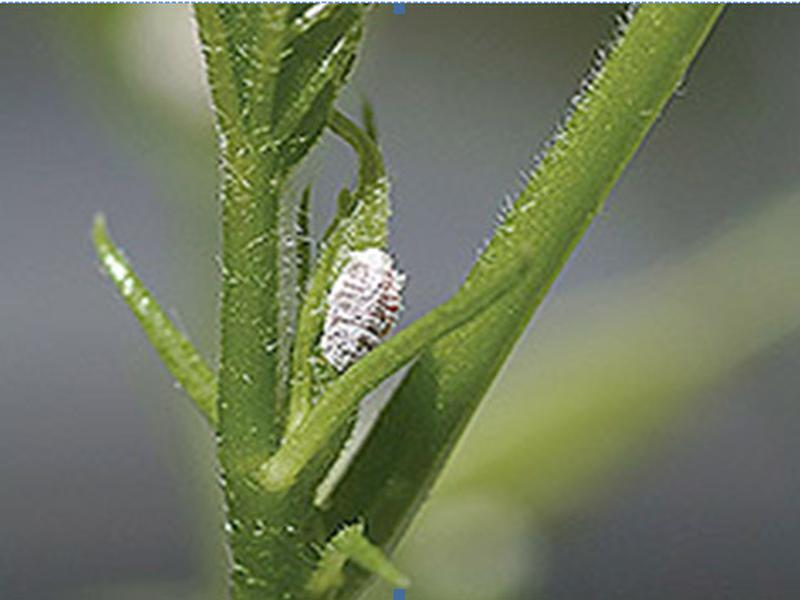Mealy_bug: (304, 210, 409, 384)
